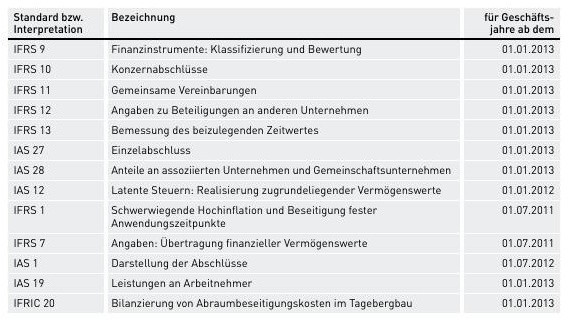table: (0, 0, 576, 325)
